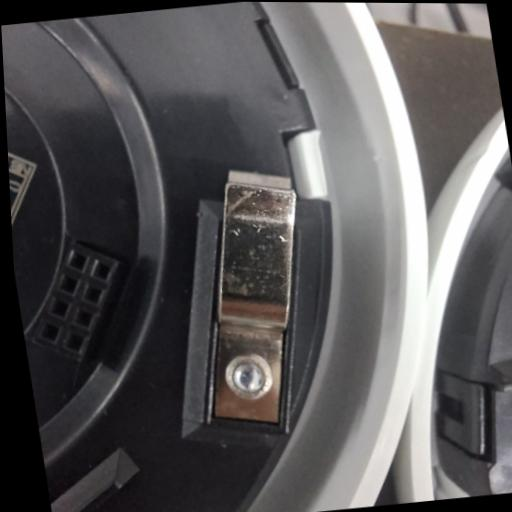yayli: (170, 157, 336, 435)
